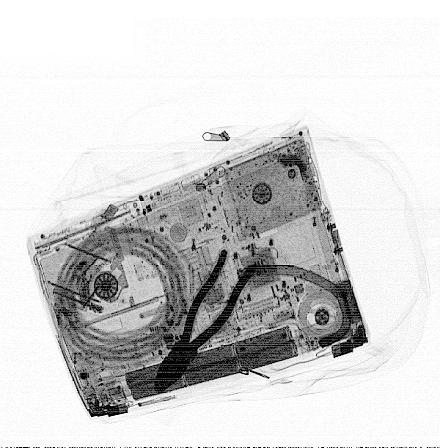Pliers: (152, 247, 258, 394)
